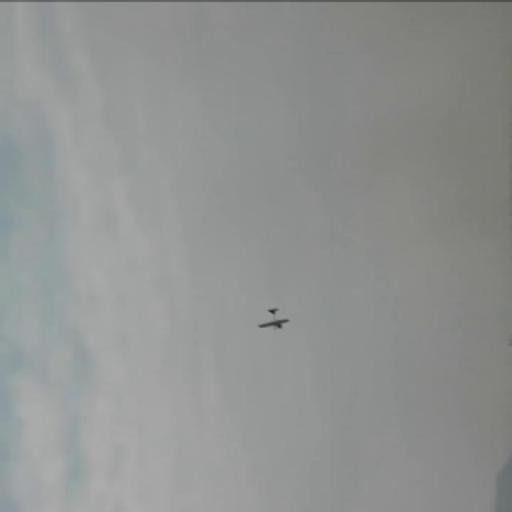uav: (256, 306, 291, 328)
